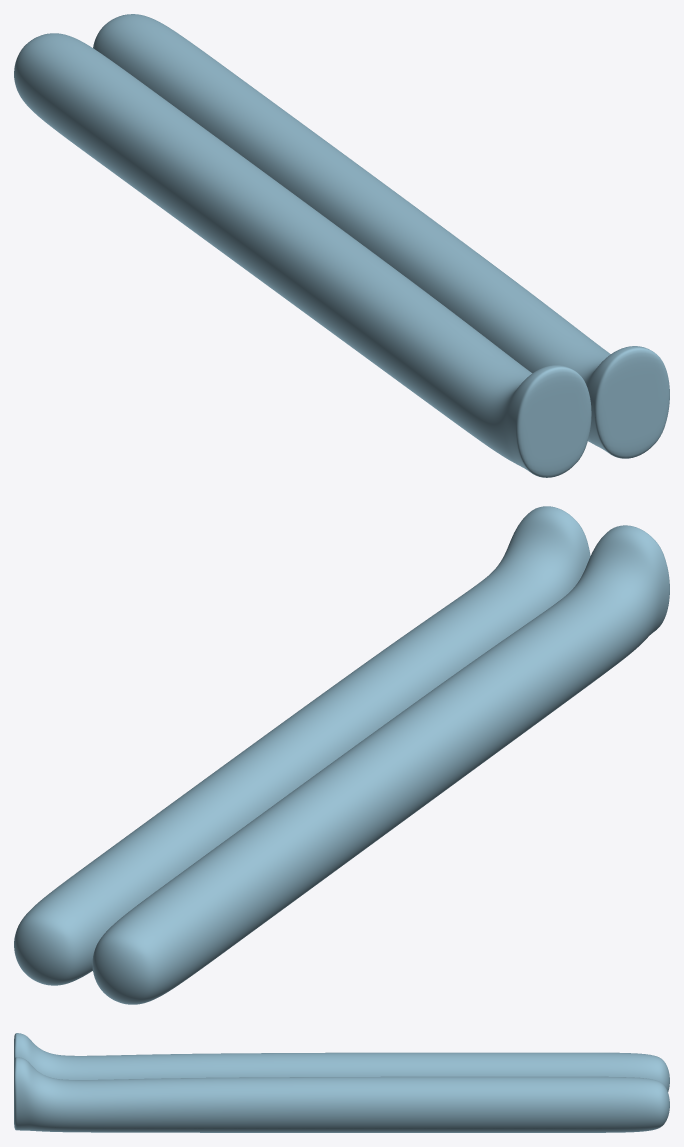
3 views of the same model, one above another, from view 1: azimuth 30°, elevation 25°; view 2: azimuth 150°, elevation 25°; view 3: azimuth 270°, elevation 25° (orthographic). The views are drawn at different scales.
Visible parts, largest first — view 1: Cube_007; view 2: Cube_007; view 3: Cube_007.
Boxes of the visible parts, x1,y1,x2,y2 form: Cube_007: (14, 14, 669, 477); Cube_007: (14, 506, 669, 1004); Cube_007: (14, 1033, 669, 1132).
Bounding box in the file's own units: 0.4825 × 2.84 × 0.3365.
